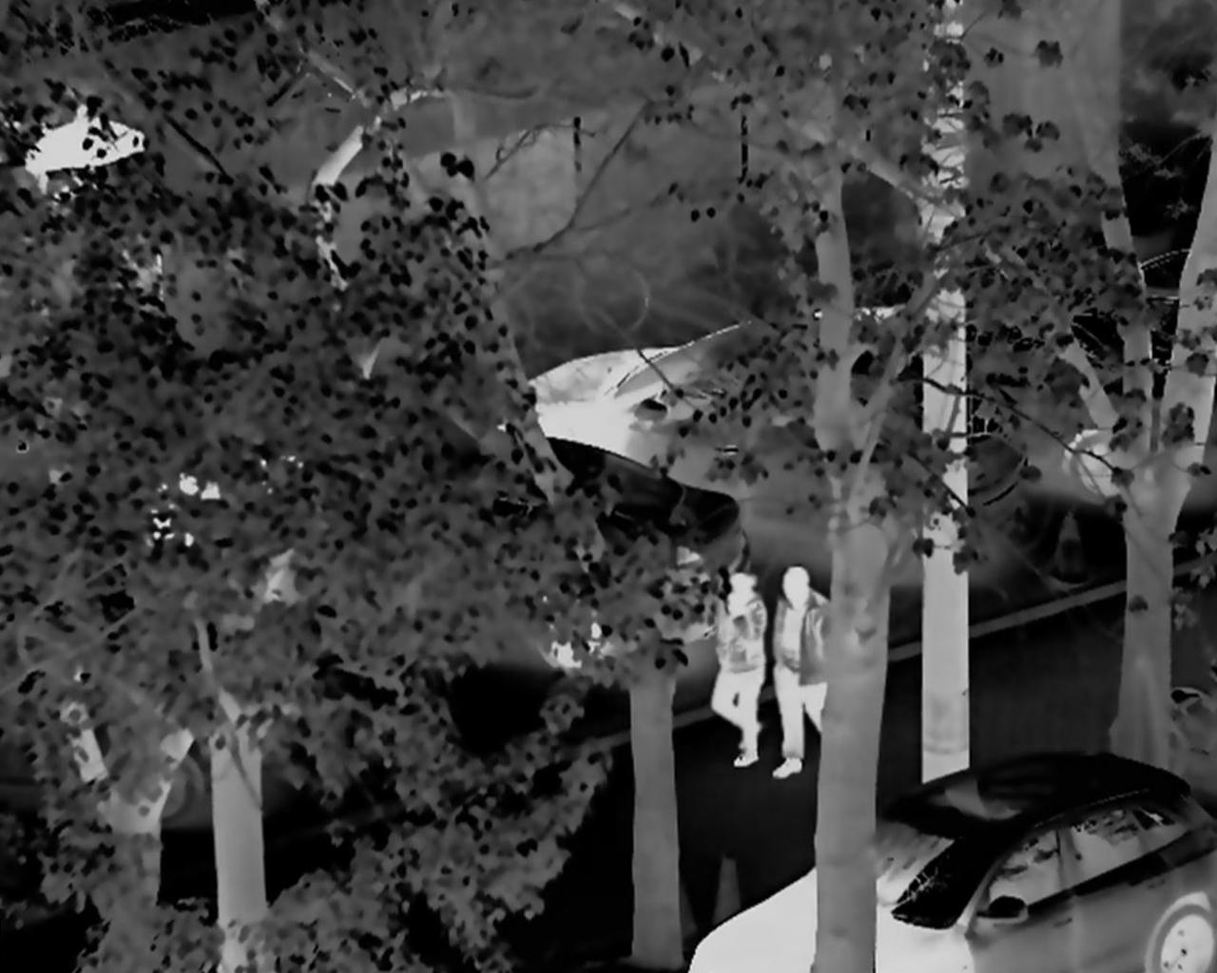person: (765, 566, 858, 785), (702, 566, 765, 778)
